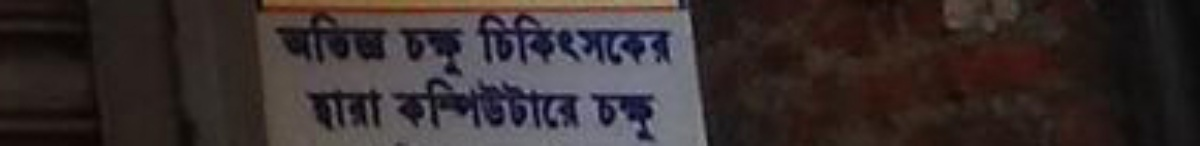text: (401, 19, 416, 78), (417, 19, 432, 78), (433, 19, 448, 78), (449, 19, 464, 78), (401, 75, 416, 134), (417, 75, 432, 134), (433, 75, 448, 134), (449, 75, 464, 134), (465, 75, 480, 134), (481, 75, 496, 134), (497, 75, 512, 134), (513, 75, 528, 134), (529, 75, 544, 134), (545, 75, 560, 134), (561, 75, 576, 134), (273, 10, 288, 66), (289, 10, 304, 66), (305, 10, 320, 66), (321, 10, 336, 66), (337, 10, 352, 66), (353, 10, 368, 66), (369, 10, 384, 66), (481, 10, 496, 66), (497, 10, 512, 66), (513, 10, 528, 66), (529, 10, 544, 66), (545, 10, 560, 66), (561, 10, 576, 66), (577, 10, 592, 66), (593, 10, 608, 66), (609, 10, 624, 66), (625, 10, 640, 66), (641, 10, 656, 66), (657, 10, 672, 66), (593, 91, 608, 140), (609, 91, 624, 140), (625, 91, 640, 140), (641, 91, 656, 140), (369, 87, 385, 131), (305, 87, 320, 131), (321, 87, 336, 131), (337, 87, 352, 131), (353, 87, 368, 131), (465, 19, 475, 78), (391, 75, 400, 134), (472, 10, 480, 66), (394, 19, 400, 78), (577, 75, 583, 134), (385, 10, 391, 66), (587, 91, 592, 140), (657, 91, 661, 140), (673, 10, 676, 66), (270, 10, 272, 66)
